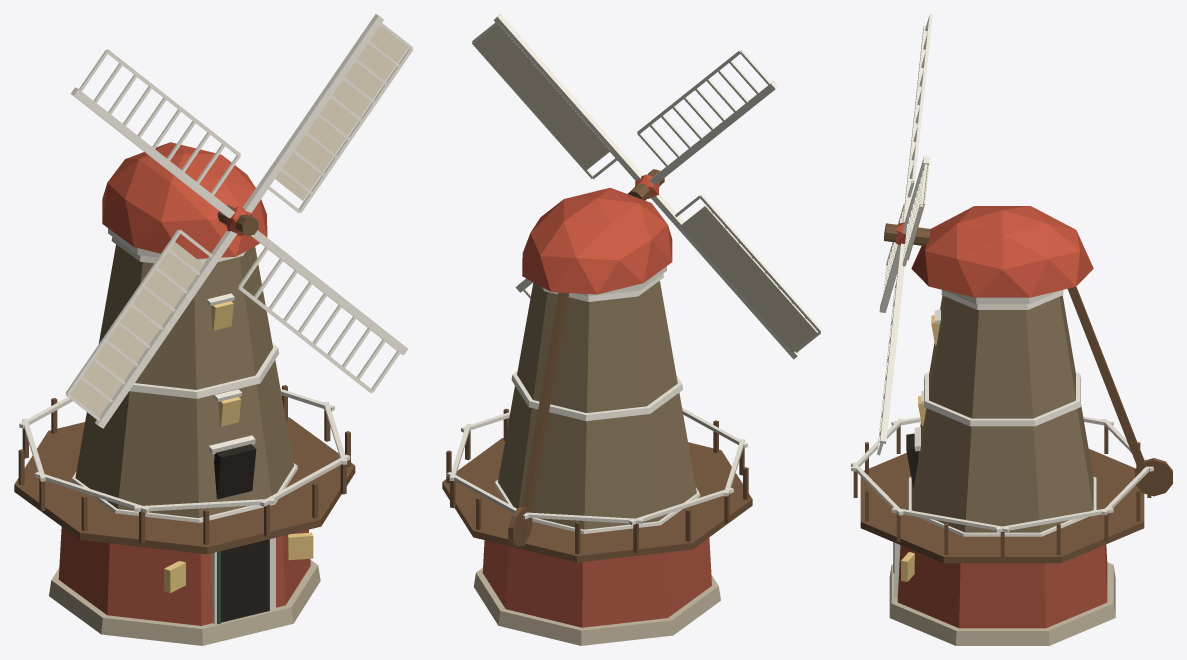
File: windmill.glb
3 renders of one model, left to right at view 1: azimuth 30°, elevation 25°; view 2: azimuth 150°, elevation 25°; view 3: azimuth 270°, elevation 25°, orthographic. The views are drawn at different scales.
Visible parts, largest first — view 1: windmill-thatch, sails-trim, windmill-timber, sails-cloth, windmill-cap, windmill-brick, windmill-trim, windmill-stone, windmill-doorway, windmill-window; view 2: windmill-thatch, windmill-timber, windmill-brick, windmill-cap, sails-cloth, sails-trim, windmill-trim, windmill-stone; view 3: windmill-thatch, windmill-timber, windmill-cap, windmill-brick, windmill-trim, sails-trim, windmill-stone, windmill-window, windshaft-timber.
Boxes of the visible parts, <box> form: windmill-thatch: <box>75,244,293,517</box>; sails-trim: <box>65,14,413,428</box>; windmill-timber: <box>14,385,355,554</box>; sails-cloth: <box>70,25,407,416</box>; windmill-cap: <box>102,142,267,258</box>; windmill-brick: <box>58,527,310,625</box>; windmill-trim: <box>19,228,350,624</box>; windmill-stone: <box>49,560,320,645</box>; windmill-doorway: <box>214,444,269,622</box>; windmill-window: <box>164,301,313,593</box>; windmill-thatch: <box>498,281,696,529</box>; windmill-timber: <box>442,292,752,562</box>; windmill-brick: <box>482,538,711,627</box>; windmill-cap: <box>522,187,672,294</box>; sails-cloth: <box>473,24,817,352</box>; sails-trim: <box>472,14,822,359</box>; windmill-trim: <box>446,266,747,533</box>; windmill-stone: <box>473,568,720,645</box>; windmill-thatch: <box>911,295,1093,532</box>; windmill-timber: <box>853,286,1172,563</box>; windmill-cap: <box>911,206,1093,297</box>; windmill-brick: <box>897,544,1107,628</box>; windmill-trim: <box>851,289,1153,597</box>; sails-trim: <box>877,14,932,455</box>; windmill-stone: <box>889,562,1115,645</box>; windmill-window: <box>901,315,939,581</box>; windshaft-timber: <box>884,223,930,245</box>.
Size of the model in its own units: 14.39 by 22.45 by 12.3.
